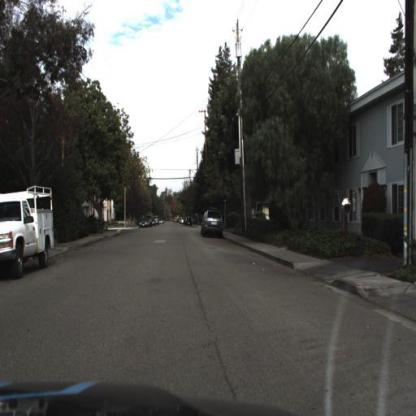car: (202, 207, 226, 243), (139, 216, 151, 232)
truck: (1, 186, 56, 282)
